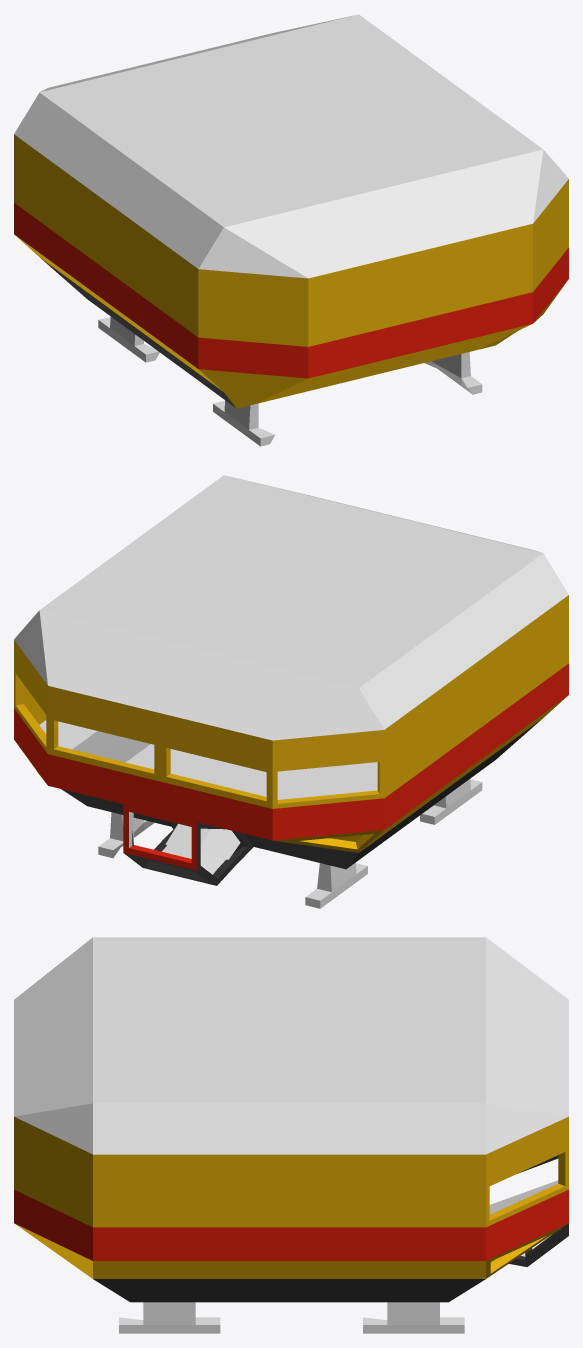
The model's file is labcraft.fbx.
3 views of the same model, one above another, from view 1: azimuth 30°, elevation 25°; view 2: azimuth 150°, elevation 25°; view 3: azimuth 270°, elevation 25° (orthographic). The views are drawn at different scales.
Visible parts, largest first — view 1: Labcraft, Gear, Ramp; view 2: Labcraft, Gear; view 3: Labcraft, Gear.
Boxes of the visible parts, x1,y1,x2,y2 form: Labcraft: [14, 14, 568, 408]; Gear: [98, 317, 482, 446]; Ramp: [263, 324, 531, 400]; Labcraft: [14, 475, 568, 885]; Gear: [98, 779, 482, 908]; Labcraft: [14, 937, 568, 1302]; Gear: [119, 1302, 464, 1333].
Size of the model in its own units: 14.35 by 8.89 by 17.47.
